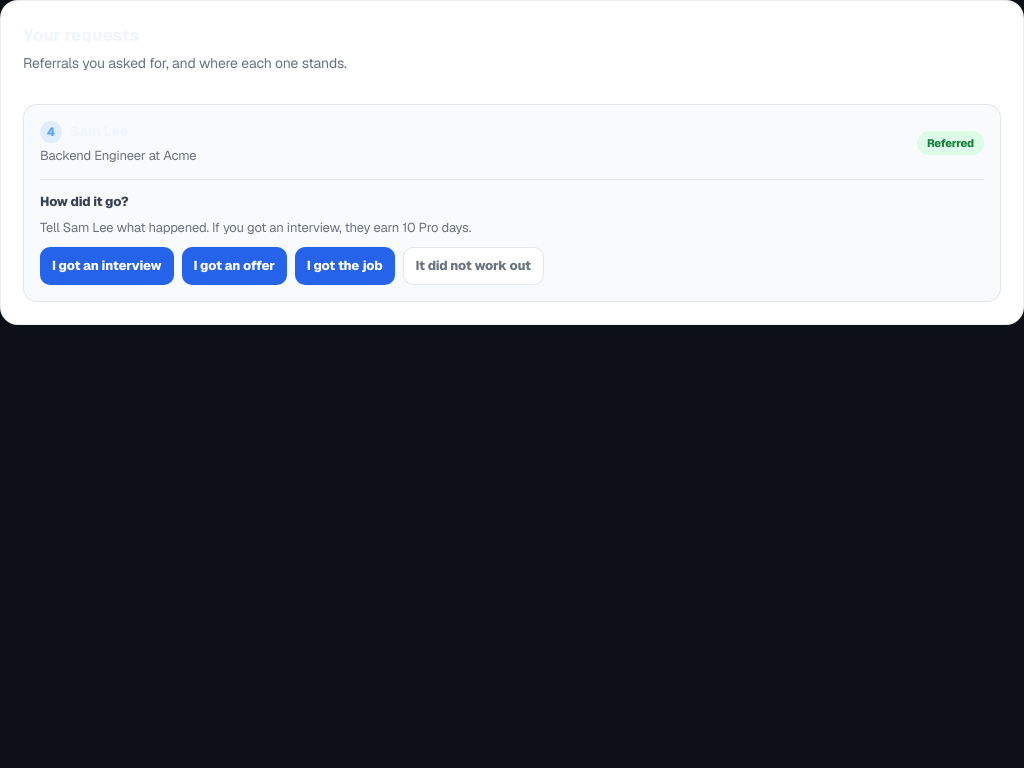
Test: SentReferralsCard › shows the RPC's refusal instead of a generic error
The image size is (1024, 768).
Click the button "I got an interview".
click(107, 266)  # box [40,247,174,284]
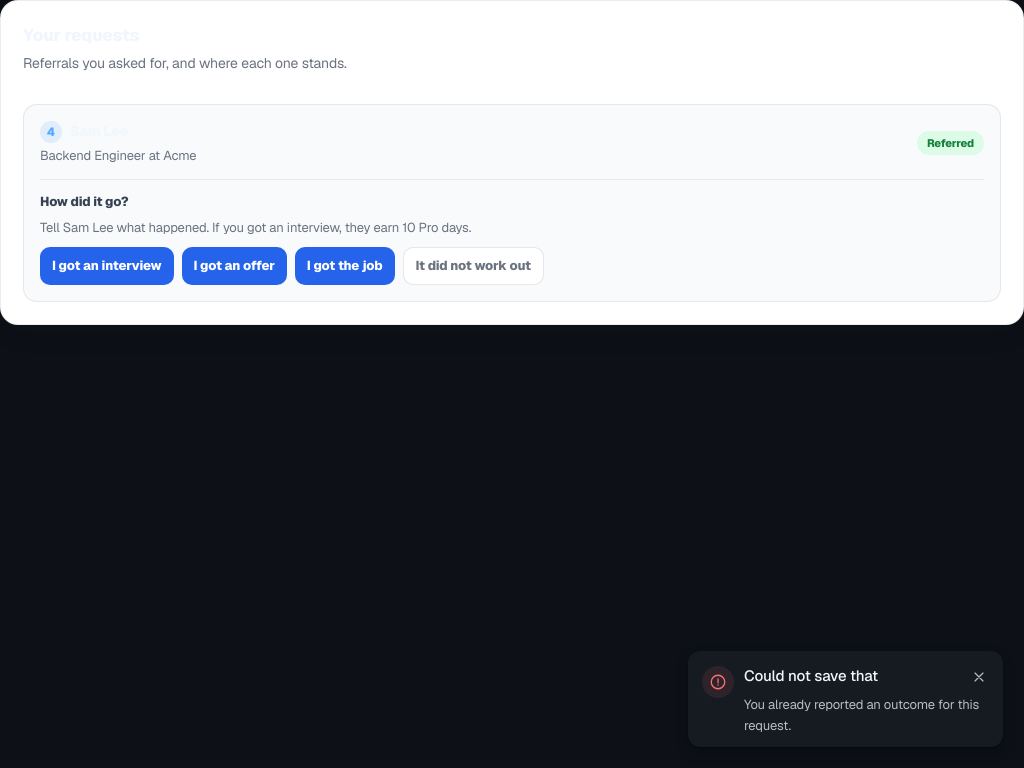
Expected: the message shows "already reported", [744,696,979,734]
